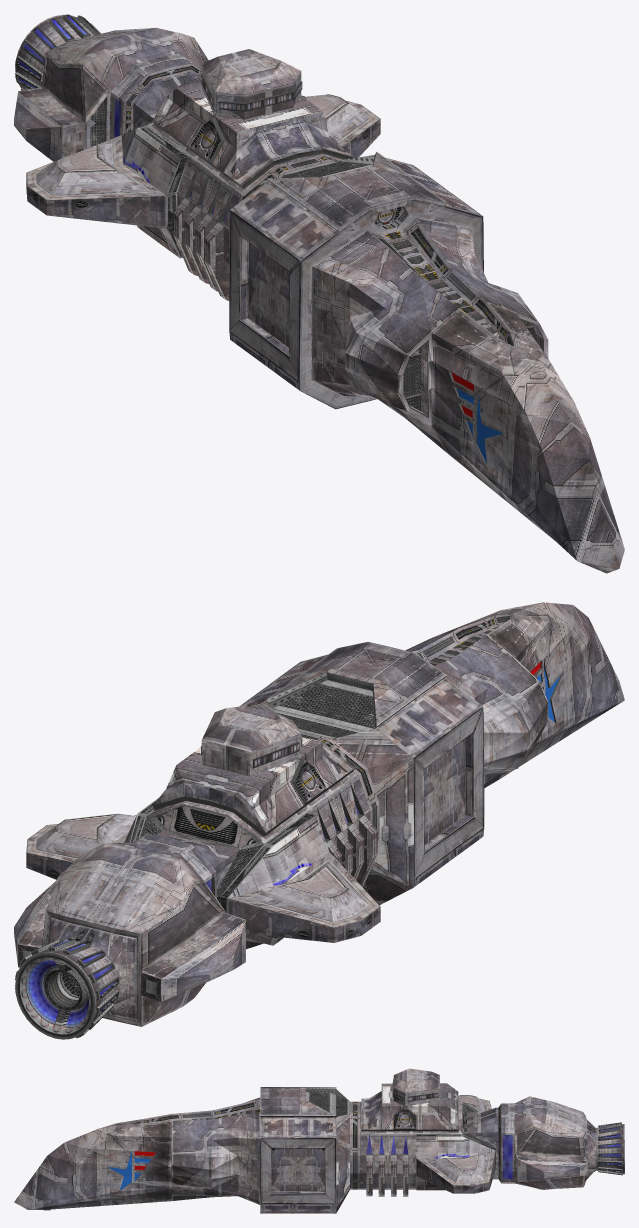
Rendered from Liberty Corvette.obj.
3 views of the same model, one above another, from view 1: azimuth 30°, elevation 25°; view 2: azimuth 150°, elevation 25°; view 3: azimuth 270°, elevation 25° (orthographic). The views are drawn at different scales.
Parts seen in each view (by area): view 1: Liberty_Corvette; view 2: Liberty_Corvette; view 3: Liberty_Corvette.
Part boxes in pixels (left/top/right/bottom): Liberty_Corvette: left=14, top=14, right=624, bottom=573; Liberty_Corvette: left=14, top=602, right=624, bottom=1039; Liberty_Corvette: left=14, top=1068, right=624, bottom=1213.
Size of the model in its own units: 5.05 by 3.59 by 14.79.
10 materials, 10 textured.
